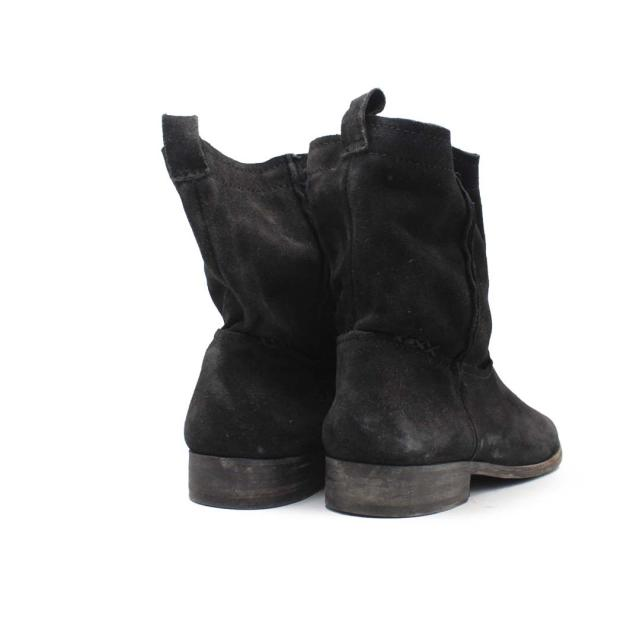heel: (303, 88, 491, 467), (157, 109, 328, 460)
midsole: (327, 443, 564, 516), (185, 445, 325, 510)
